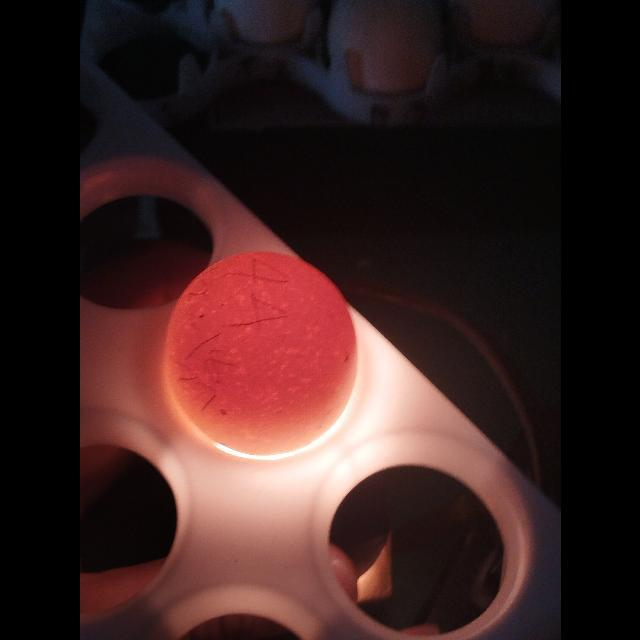Infertile: (160, 248, 362, 462)
